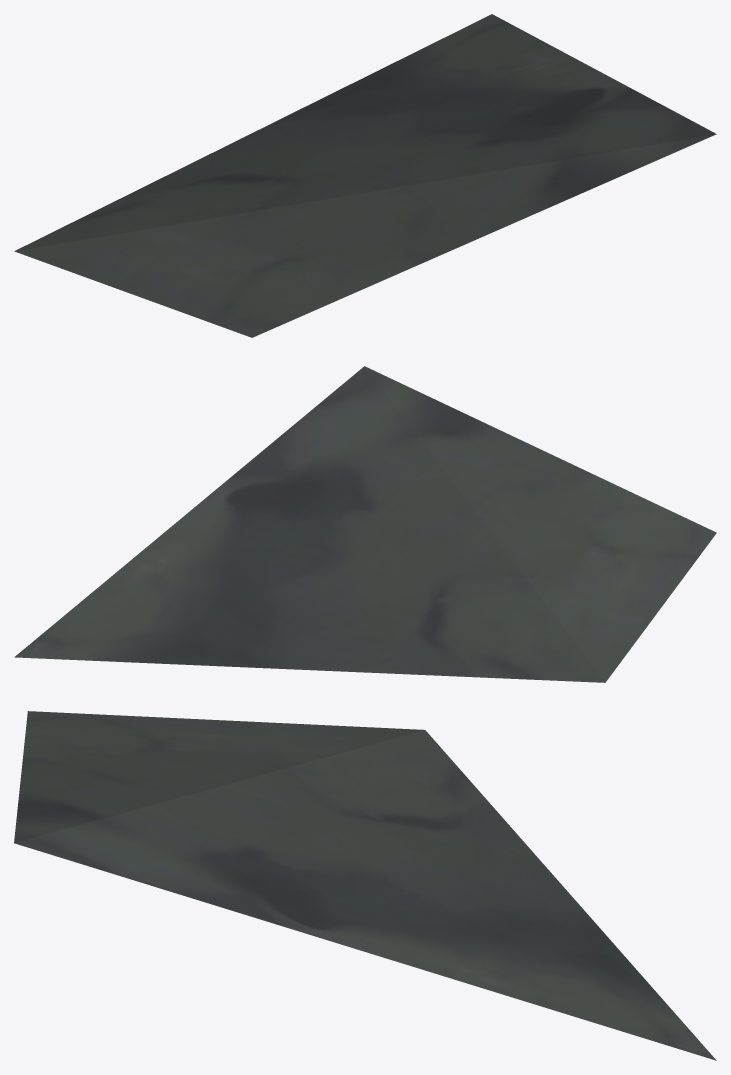
File: Ridge_2_1_Top.gltf
3 renders of one model, top to bottom at view 1: azimuth 30°, elevation 25°; view 2: azimuth 150°, elevation 25°; view 3: azimuth 270°, elevation 25°, orthographic. The views are drawn at different scales.
Visible parts, largest first — view 1: Ridge_2_1_Top; view 2: Ridge_2_1_Top; view 3: Ridge_2_1_Top.
Boxes of the visible parts, left/top/right/bottom form: Ridge_2_1_Top: left=14, top=14, right=716, bottom=337; Ridge_2_1_Top: left=14, top=366, right=716, bottom=682; Ridge_2_1_Top: left=14, top=711, right=716, bottom=1060.
Bounding box in the file's own units: 16.93 × 4.03 × 15.99.
Materials: 1 (1 with a texture image).
